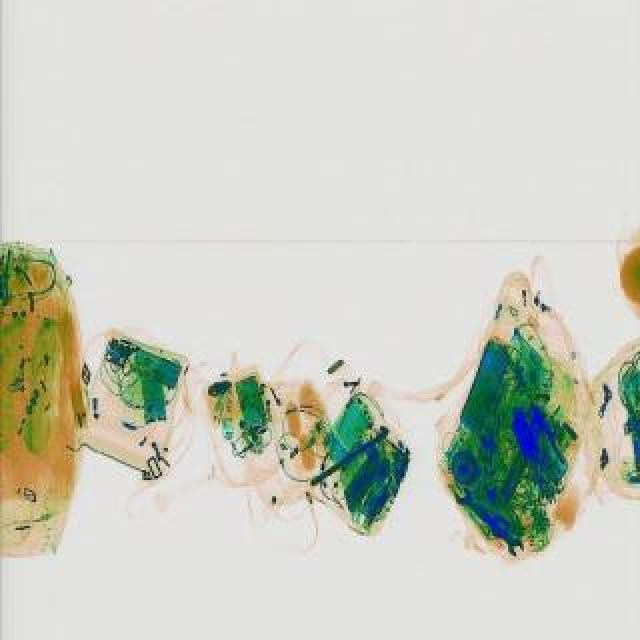scissors: (448, 482, 528, 560)
